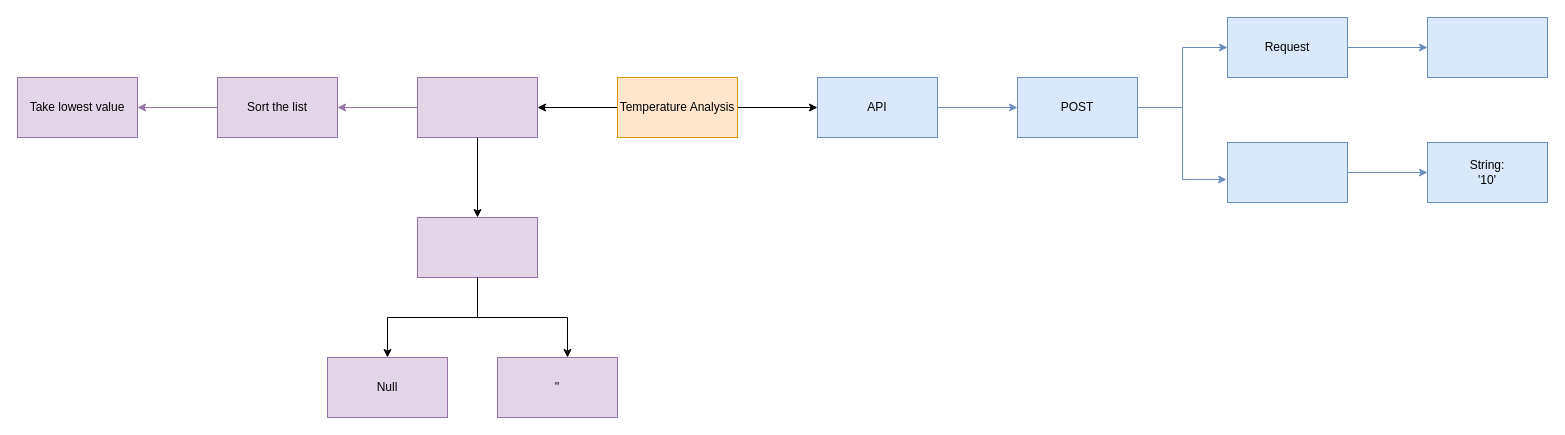
The diagram is 1565 pixels wide and 435 high, and some of its shapes have lost their labels. The box of each missing label's shape, as (x1, y1, x2, y2) in pixels:
Determine the lowest provided temperature: (416, 76, 538, 138)
Handle empty cases: (416, 216, 538, 278)
Response: (1226, 142, 1348, 202)
String: '10,20,11,30': (1426, 16, 1548, 78)
